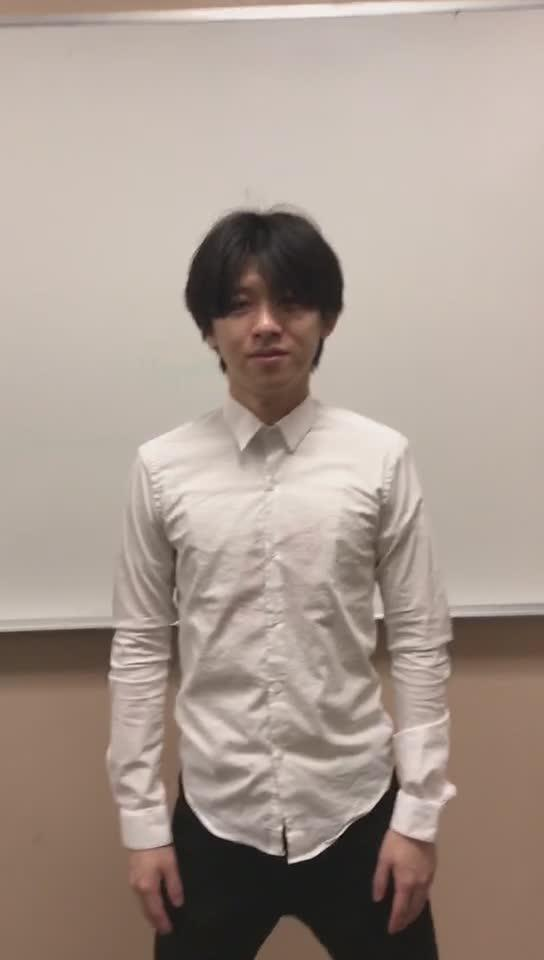shirt: (187, 477, 362, 770)
